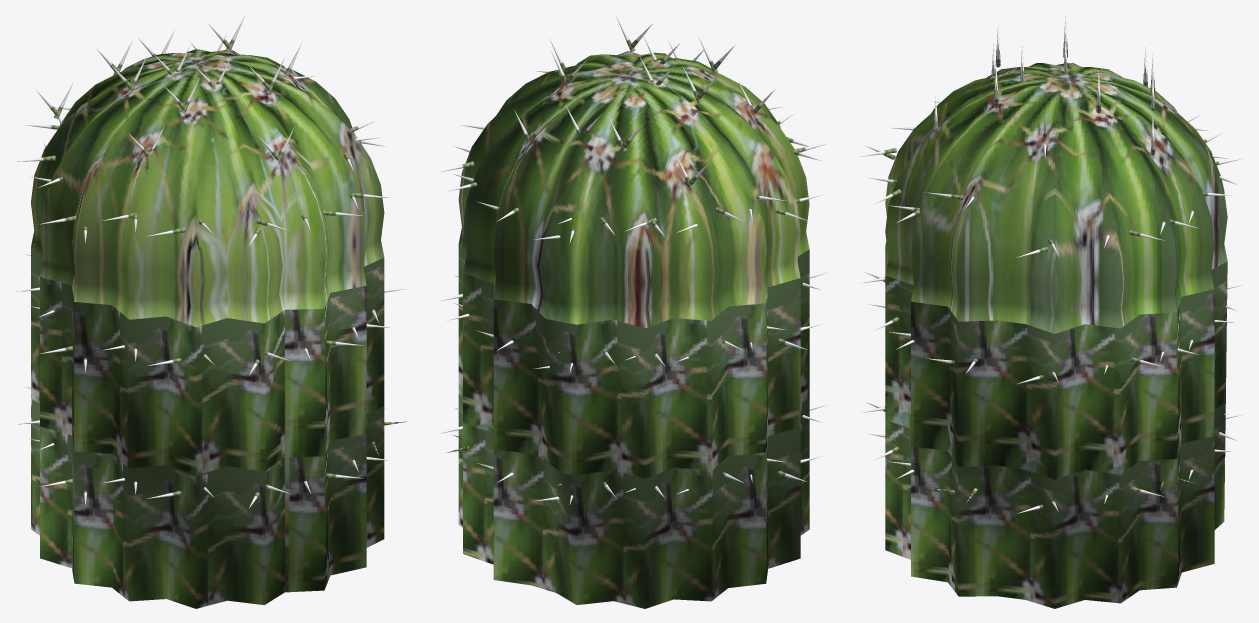
The model's file is cacutus.fbx.
3 renders of one model, left to right at view 1: azimuth 30°, elevation 25°; view 2: azimuth 150°, elevation 25°; view 3: azimuth 270°, elevation 25°, orthographic. The views are drawn at different scales.
Visible parts, largest first — view 1: Sphere; view 2: Sphere; view 3: Sphere.
Boxes of the visible parts, <box> form: Sphere: <box>31,49,384,608</box>; Sphere: <box>458,51,809,608</box>; Sphere: <box>885,63,1227,608</box>.
Bounding box in the file's own units: 256 × 347 × 254.
